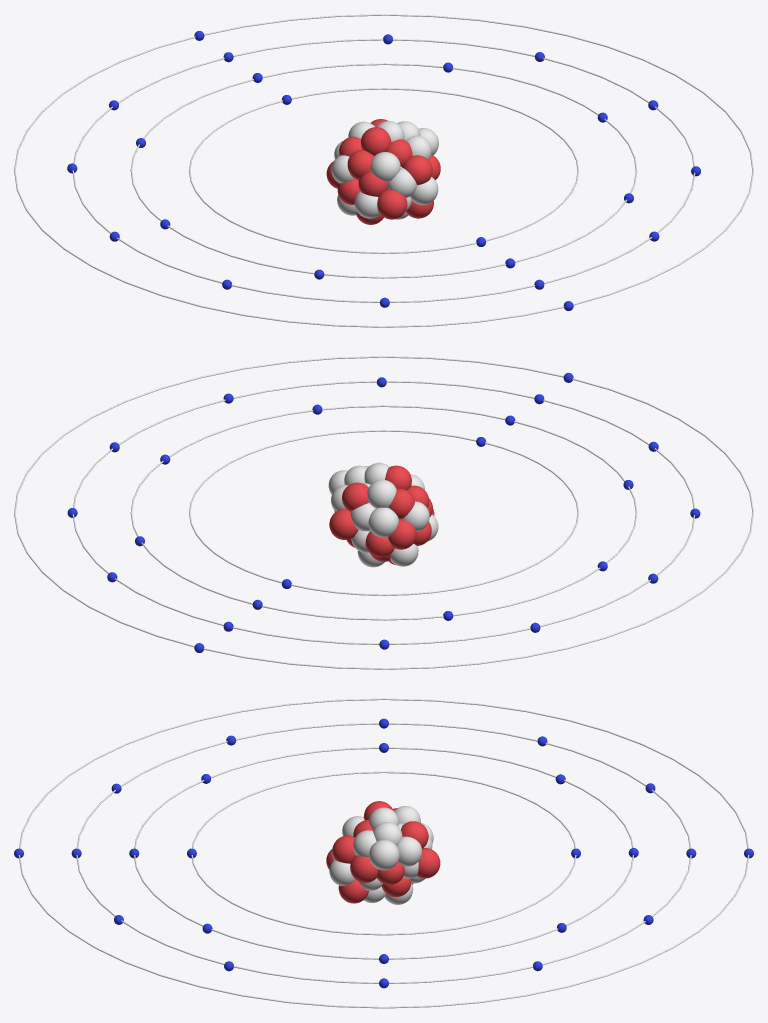
File: Chrom.glb
3 renders of one model, top to bottom at view 1: azimuth 30°, elevation 25°; view 2: azimuth 150°, elevation 25°; view 3: azimuth 270°, elevation 25°, orthographic.
Visible parts, largest first — view 1: N-Schale, M-Schale, L-Schale, K-Schale, Proton 24, Neutron 15, Proton 16, Proton 23, Proton 19, Neutron 24, Neutron 14; view 2: N-Schale, M-Schale, L-Schale, K-Schale, Neutron 8, Neutron 16, Proton 18, Proton 4, Proton 17, Proton 8, Proton 12; view 3: N-Schale, M-Schale, L-Schale, K-Schale, Neutron 28, Neutron 22, Proton 22, Proton 18, Proton 23.
Part boxes in pixels (bbox=[...]): N-Schale: bbox=[14, 14, 753, 327]; M-Schale: bbox=[72, 39, 695, 302]; L-Schale: bbox=[130, 63, 637, 278]; K-Schale: bbox=[189, 88, 578, 253]; Proton 24: bbox=[377, 189, 407, 219]; Neutron 15: bbox=[370, 152, 400, 182]; Proton 16: bbox=[361, 127, 391, 155]; Proton 23: bbox=[402, 155, 432, 185]; Proton 19: bbox=[347, 149, 374, 179]; Neutron 24: bbox=[388, 168, 416, 197]; Neutron 14: bbox=[354, 191, 380, 218]; N-Schale: bbox=[14, 356, 753, 669]; M-Schale: bbox=[72, 381, 695, 644]; L-Schale: bbox=[130, 405, 637, 620]; K-Schale: bbox=[189, 430, 578, 595]; Neutron 8: bbox=[368, 507, 398, 537]; Neutron 16: bbox=[367, 479, 396, 508]; Proton 18: bbox=[329, 509, 358, 539]; Proton 4: bbox=[388, 519, 416, 549]; Proton 17: bbox=[342, 482, 368, 511]; Proton 8: bbox=[388, 488, 414, 518]; Proton 12: bbox=[365, 531, 394, 557]; N-Schale: bbox=[18, 698, 749, 1008]; M-Schale: bbox=[76, 723, 691, 983]; L-Schale: bbox=[134, 747, 633, 959]; K-Schale: bbox=[191, 771, 576, 935]; Neutron 28: bbox=[369, 840, 399, 870]; Neutron 22: bbox=[397, 836, 422, 866]; Proton 22: bbox=[350, 855, 378, 882]; Proton 18: bbox=[417, 848, 440, 878]; Proton 23: bbox=[332, 835, 356, 863].
Size of the model in its own units: 19.04 by 2.73 by 19.26.
